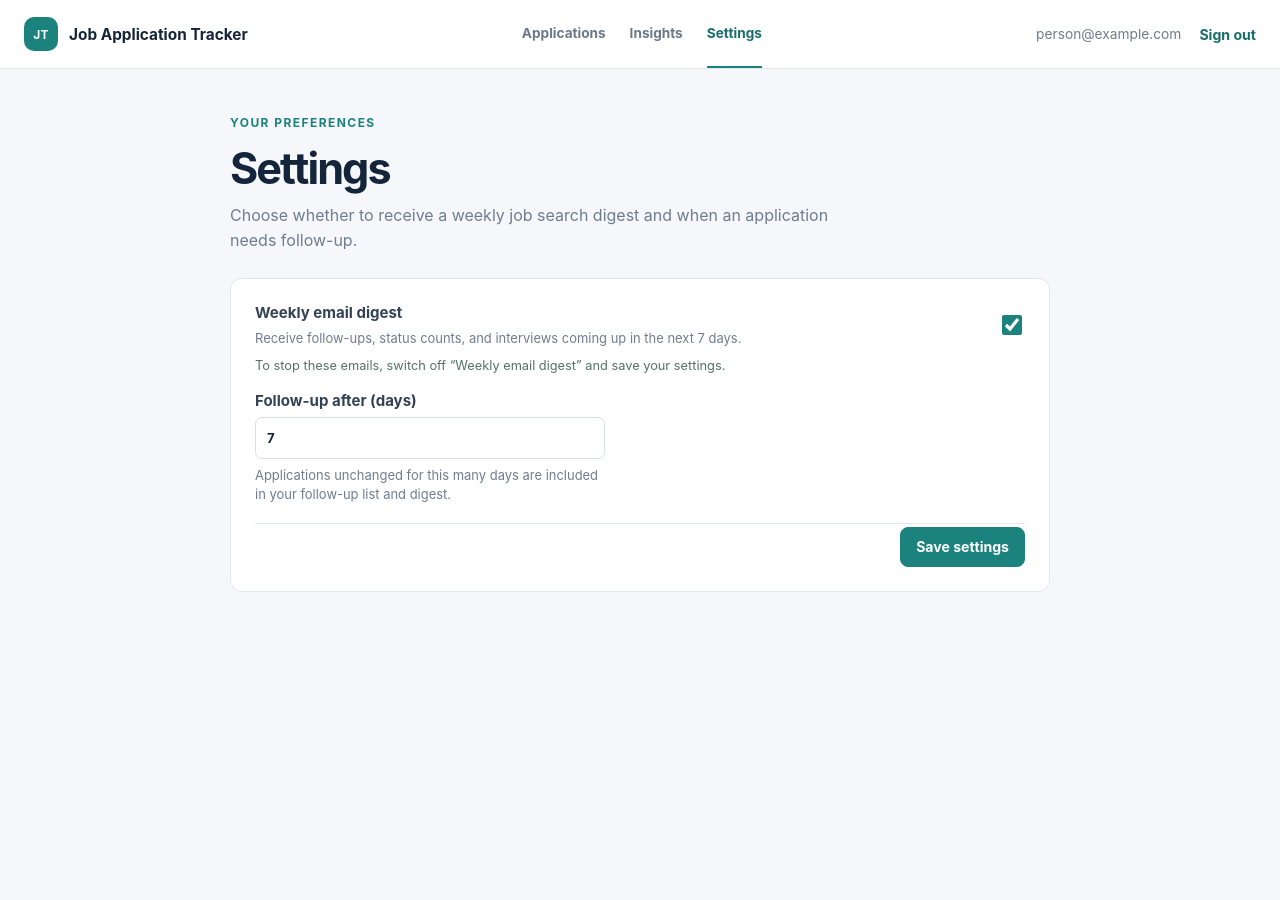
Test case: SettingsPage › shows a clear message when settings cannot be saved
The width and height of the screenshot is (1280, 900).
expect the checkbox labelled "Weekly email digest" is shown: met, box 1002,315 -> 1022,335
Click the button "Save settings" at (963, 547), box 900,527 -> 1025,567
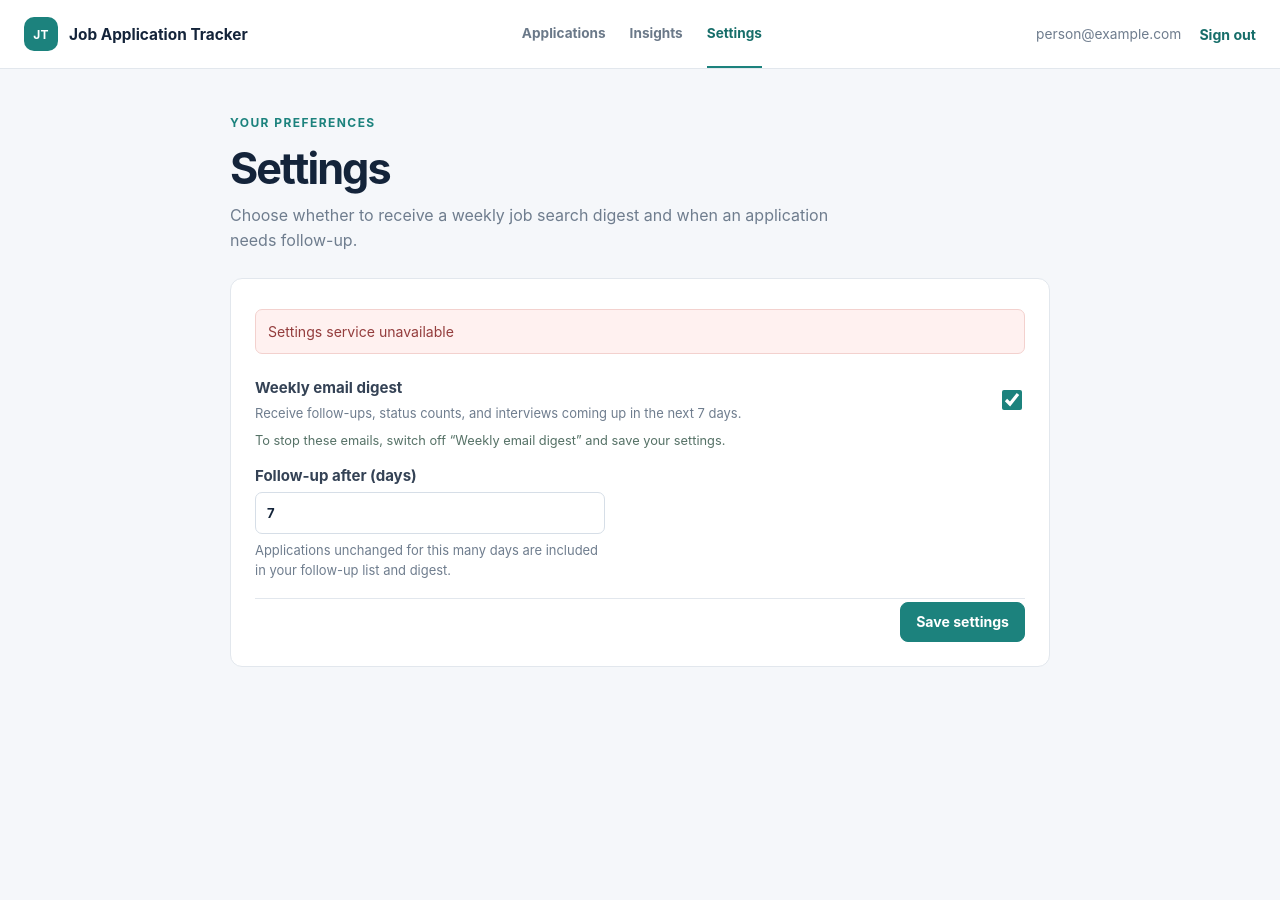
expect the message reads "Settings service unavailable": met, box 268,323 -> 454,340
